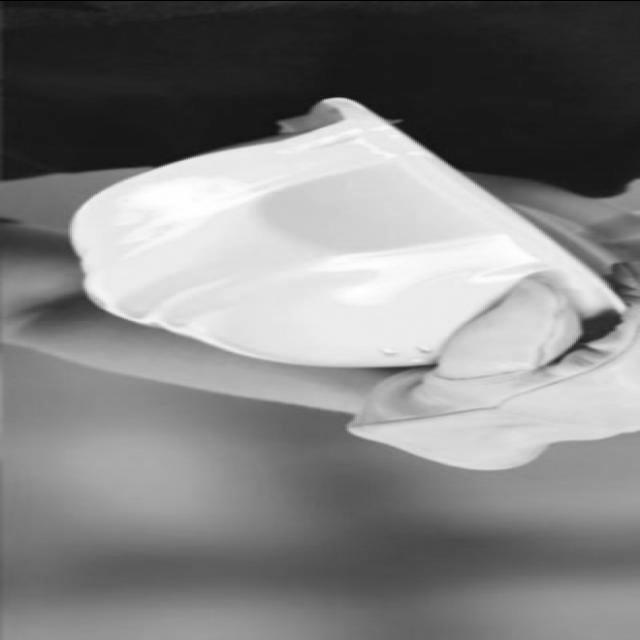construction helmet: (70, 96, 623, 370)
